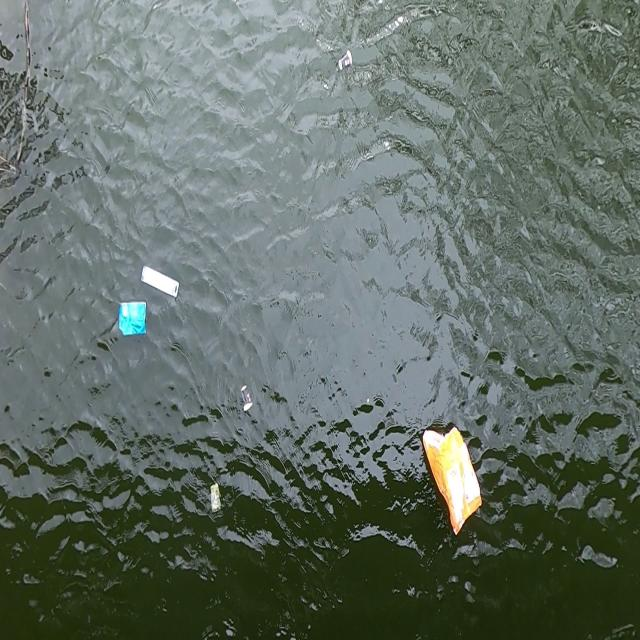Non plastique: (206, 480, 227, 517), (236, 380, 256, 415), (335, 49, 354, 74)
Sac plastique: (416, 419, 486, 543)
